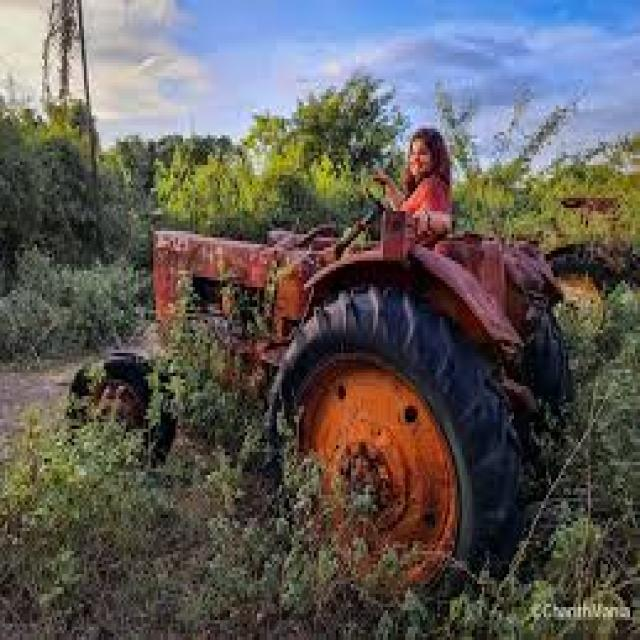person: (373, 129, 450, 244)
tractor: (72, 211, 568, 584)
